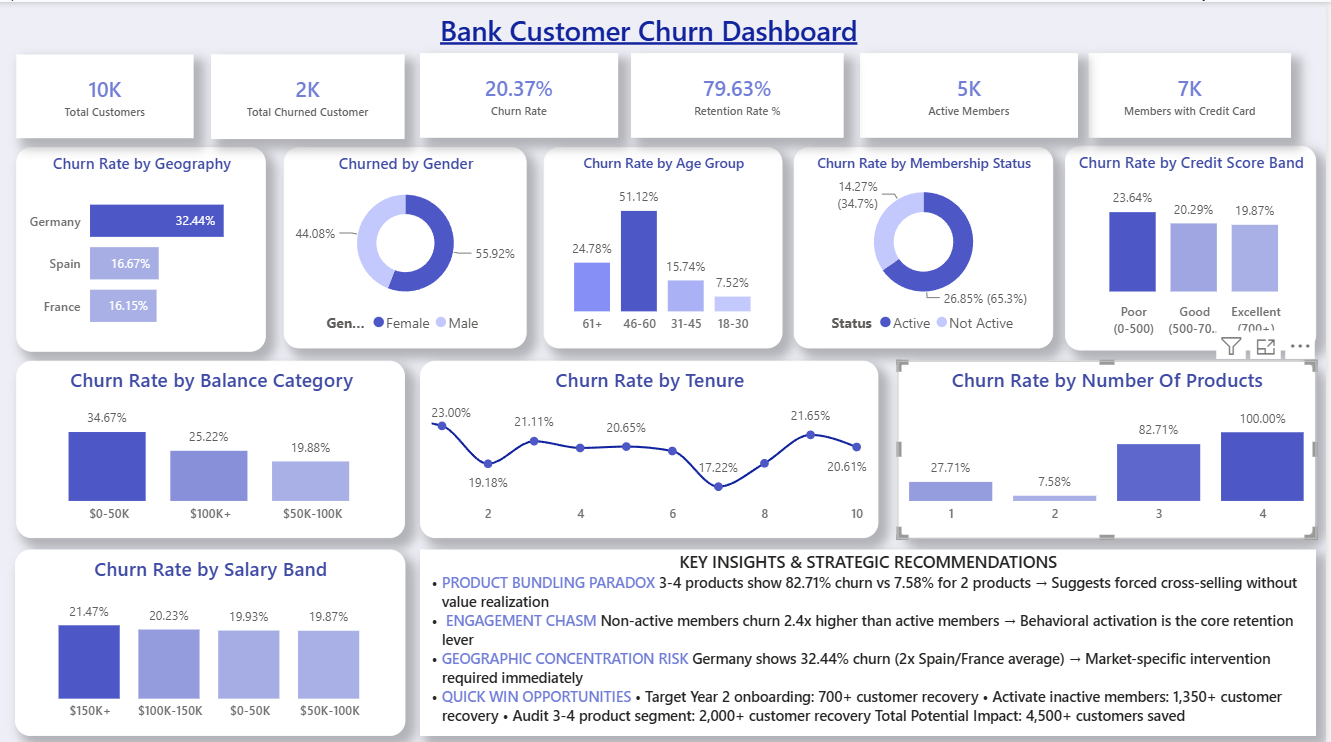

This screenshot's page, from the dashboard's own definition file:
{"tool":"powerbi","page":{"name":"Page 1","canvas":[1280,720],"ordinal":0},"visuals":[{"type":"clusteredBarChart","title":" Churn Rate by Geography","fields":{"Y":["Sum(By Geography.ChurnRate)"],"Category":["By Geography.Geography"]},"box":[15.6,140,241.1,197.8],"z":0},{"type":"donutChart","title":" Churned by Gender","fields":{"Y":["Sum(By Gender.Churned)"],"Category":["By Gender.Gender"]},"box":[273.3,140,234.4,194.4],"z":1000},{"type":"clusteredColumnChart","title":"Churn Rate by Age Group","fields":{"Y":["Sum(By Age.ChurnRate)"],"Category":["By Age.AgeGroup"]},"box":[524.4,140,230,194.4],"z":2000},{"type":"donutChart","title":" Churn Rate by Membership Status","fields":{"Y":["Sum(By Member Status.ChurnRate)"],"Category":["By Member Status.index"]},"box":[765.6,140,250,194.4],"z":3000},{"type":"clusteredColumnChart","title":"Churn Rate by Credit Score Band","fields":{"Category":["By Credit Score.CreditScoreBand"],"Y":["Sum(By Credit Score.ChurnRate)"]},"box":[1027.5,138.8,242.5,197.5],"z":4000},{"type":"clusteredColumnChart","title":" Churn Rate by Balance Category","fields":{"Category":["By Balance.BalanceCategory"],"Y":["Avg(By Balance.ChurnRate)"]},"box":[15.6,346.7,375.6,171.1],"z":5000},{"type":"lineChart","title":"Churn Rate by Tenure","fields":{"Y":["Sum(By Tenure.ChurnRate)"],"Category":["By Tenure.Tenure"]},"box":[405.6,346.7,442.2,171.1],"z":6000},{"type":"clusteredColumnChart","title":"Churn Rate by Number Of Products","fields":{"Y":["Sum(By Products.ChurnRate)"],"Category":["By Products.NumOfProducts"]},"box":[866.7,346.7,403.3,171.1],"z":7000},{"type":"clusteredColumnChart","title":"Churn Rate by Salary Band","fields":{"Y":["Sum(By Salary.ChurnRate)"],"Category":["By Salary.SalaryBand"]},"box":[14.5,528.4,376.4,179.8],"z":8000},{"type":"cardVisual","fields":{"Data":["Raw Data.Total Customers"]},"box":[15.6,51.1,171.1,81.1],"z":9000},{"type":"cardVisual","fields":{"Data":["Raw Data.Total Churned Customer"]},"box":[203.8,51.2,186.2,81.2],"z":10000},{"type":"cardVisual","fields":{"Data":["Raw Data.Churn Rate"]},"box":[405,50,191.2,81.2],"z":11000},{"type":"cardVisual","fields":{"Data":["Raw Data.Members with Credit Card"]},"box":[1051.2,50,195,81.2],"z":12000},{"type":"cardVisual","fields":{"Data":["Raw Data.Active Members"]},"box":[830,50,210,81.2],"z":13000},{"type":"textbox","box":[297.5,3.8,656.2,177.5],"z":14000},{"type":"cardVisual","fields":{"Data":["Raw Data.Retention Rate %"]},"box":[608.8,50,205,81.2],"z":15000},{"type":"textbox","box":[405,528.8,865,180],"z":16003}]}

Visuals, with their boxes in screenshot pixels (x1, y1, x2, y2), scaled from the page's 1280x720 canvas onto the 1331x742 screenshot:
" Churn Rate by Geography" clusteredBarChart: (16, 144, 267, 348)
" Churned by Gender" donutChart: (284, 144, 528, 345)
"Churn Rate by Age Group" clusteredColumnChart: (545, 144, 784, 345)
" Churn Rate by Membership Status" donutChart: (796, 144, 1056, 345)
"Churn Rate by Credit Score Band" clusteredColumnChart: (1068, 143, 1321, 347)
" Churn Rate by Balance Category" clusteredColumnChart: (16, 357, 407, 534)
"Churn Rate by Tenure" lineChart: (422, 357, 882, 534)
"Churn Rate by Number Of Products" clusteredColumnChart: (901, 357, 1321, 534)
"Churn Rate by Salary Band" clusteredColumnChart: (15, 545, 406, 730)
cardVisual - Raw Data.Total Customers: (16, 53, 194, 136)
cardVisual - Raw Data.Total Churned Customer: (212, 53, 406, 136)
cardVisual - Raw Data.Churn Rate: (421, 52, 620, 135)
cardVisual - Raw Data.Members with Credit Card: (1093, 52, 1296, 135)
cardVisual - Raw Data.Active Members: (863, 52, 1081, 135)
textbox: (309, 4, 992, 187)
cardVisual - Raw Data.Retention Rate %: (633, 52, 846, 135)
textbox: (421, 545, 1321, 730)
